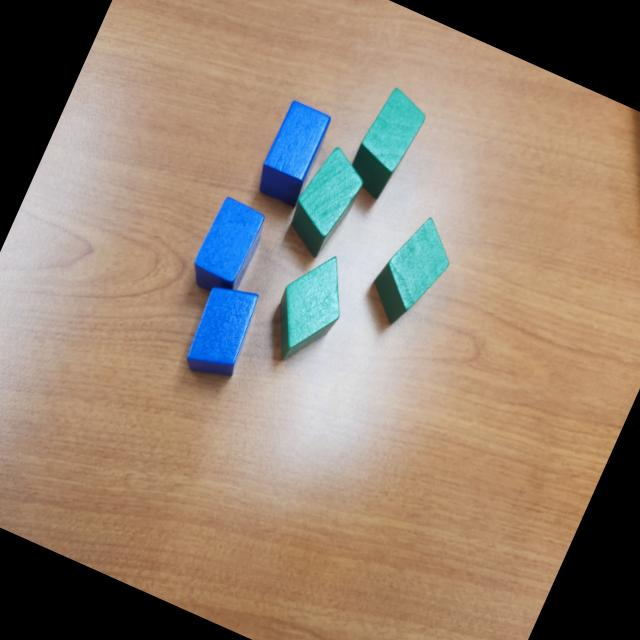blue: (179, 278, 266, 388), (185, 194, 272, 304), (250, 99, 334, 210)
green: (255, 238, 366, 377), (360, 204, 464, 337), (338, 78, 436, 208), (278, 137, 375, 265)
